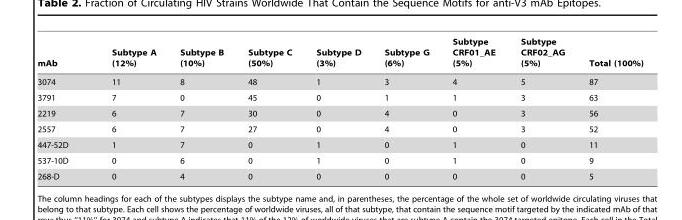table: (36, 37, 643, 180)
table column: (89, 37, 167, 180), (303, 37, 372, 180), (507, 37, 576, 180), (167, 37, 235, 180), (235, 37, 303, 180), (372, 37, 440, 180), (440, 37, 507, 180), (576, 37, 643, 180), (36, 37, 89, 180)
table column header: (36, 37, 643, 72)
table row: (36, 37, 643, 72), (36, 72, 643, 89), (36, 89, 643, 105), (36, 105, 643, 121), (36, 136, 643, 152), (36, 152, 643, 168), (36, 121, 643, 136), (36, 168, 643, 180)
